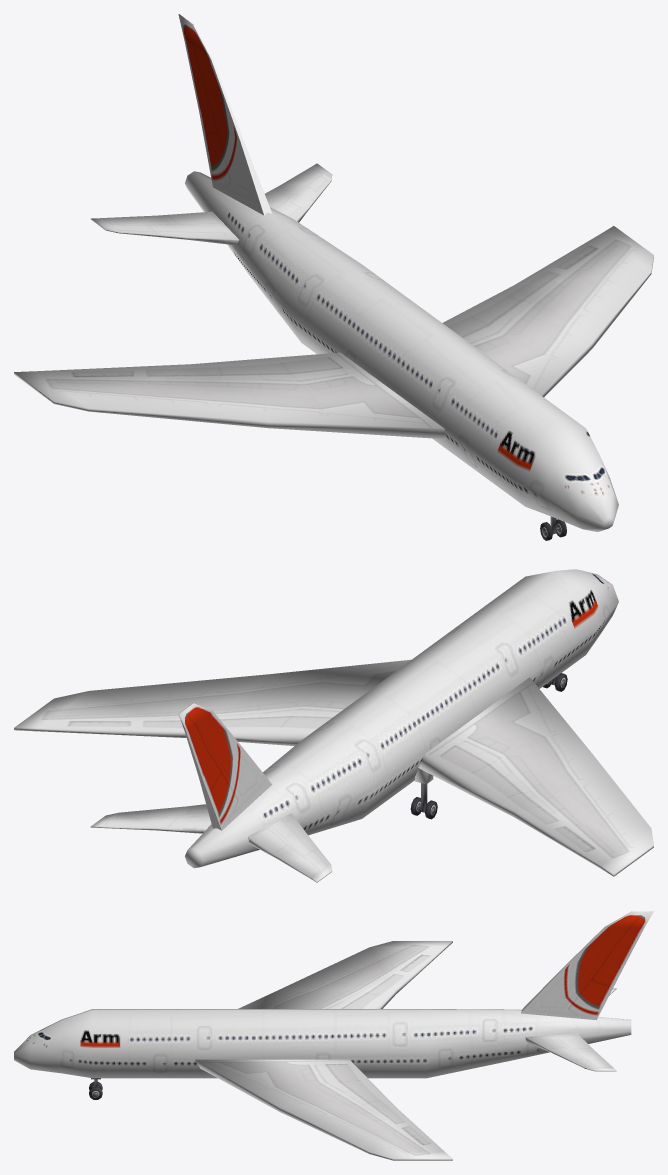
File: air_plane.fbx
3 renders of one model, top to bottom at view 1: azimuth 30°, elevation 25°; view 2: azimuth 150°, elevation 25°; view 3: azimuth 270°, elevation 25°, orthographic. The views are drawn at different scales.
Parts seen in each view (by area): view 1: Cube; view 2: Cube; view 3: Cube.
Boxes of the visible parts, x1,y1,x2,y2 form: Cube: (14, 14, 653, 540); Cube: (14, 569, 653, 882); Cube: (14, 911, 653, 1160).
Bounding box in the file's own units: 751 × 298 × 933.
Materials: 1 (1 with a texture image).
